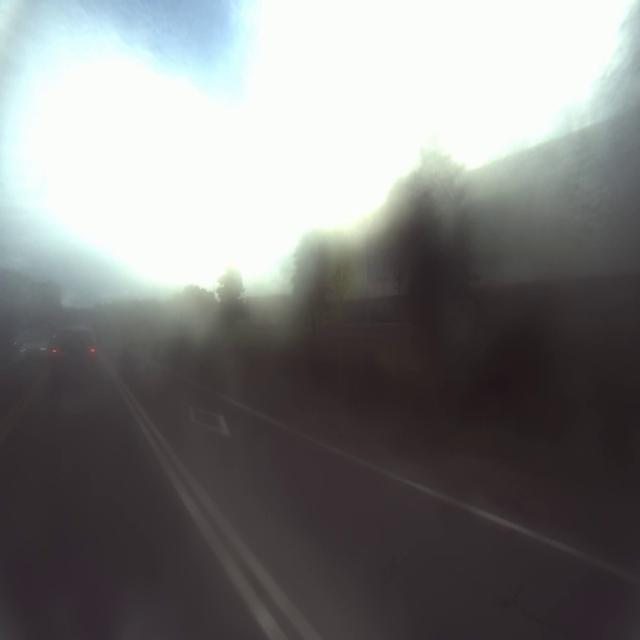car: (15, 328, 54, 371)
